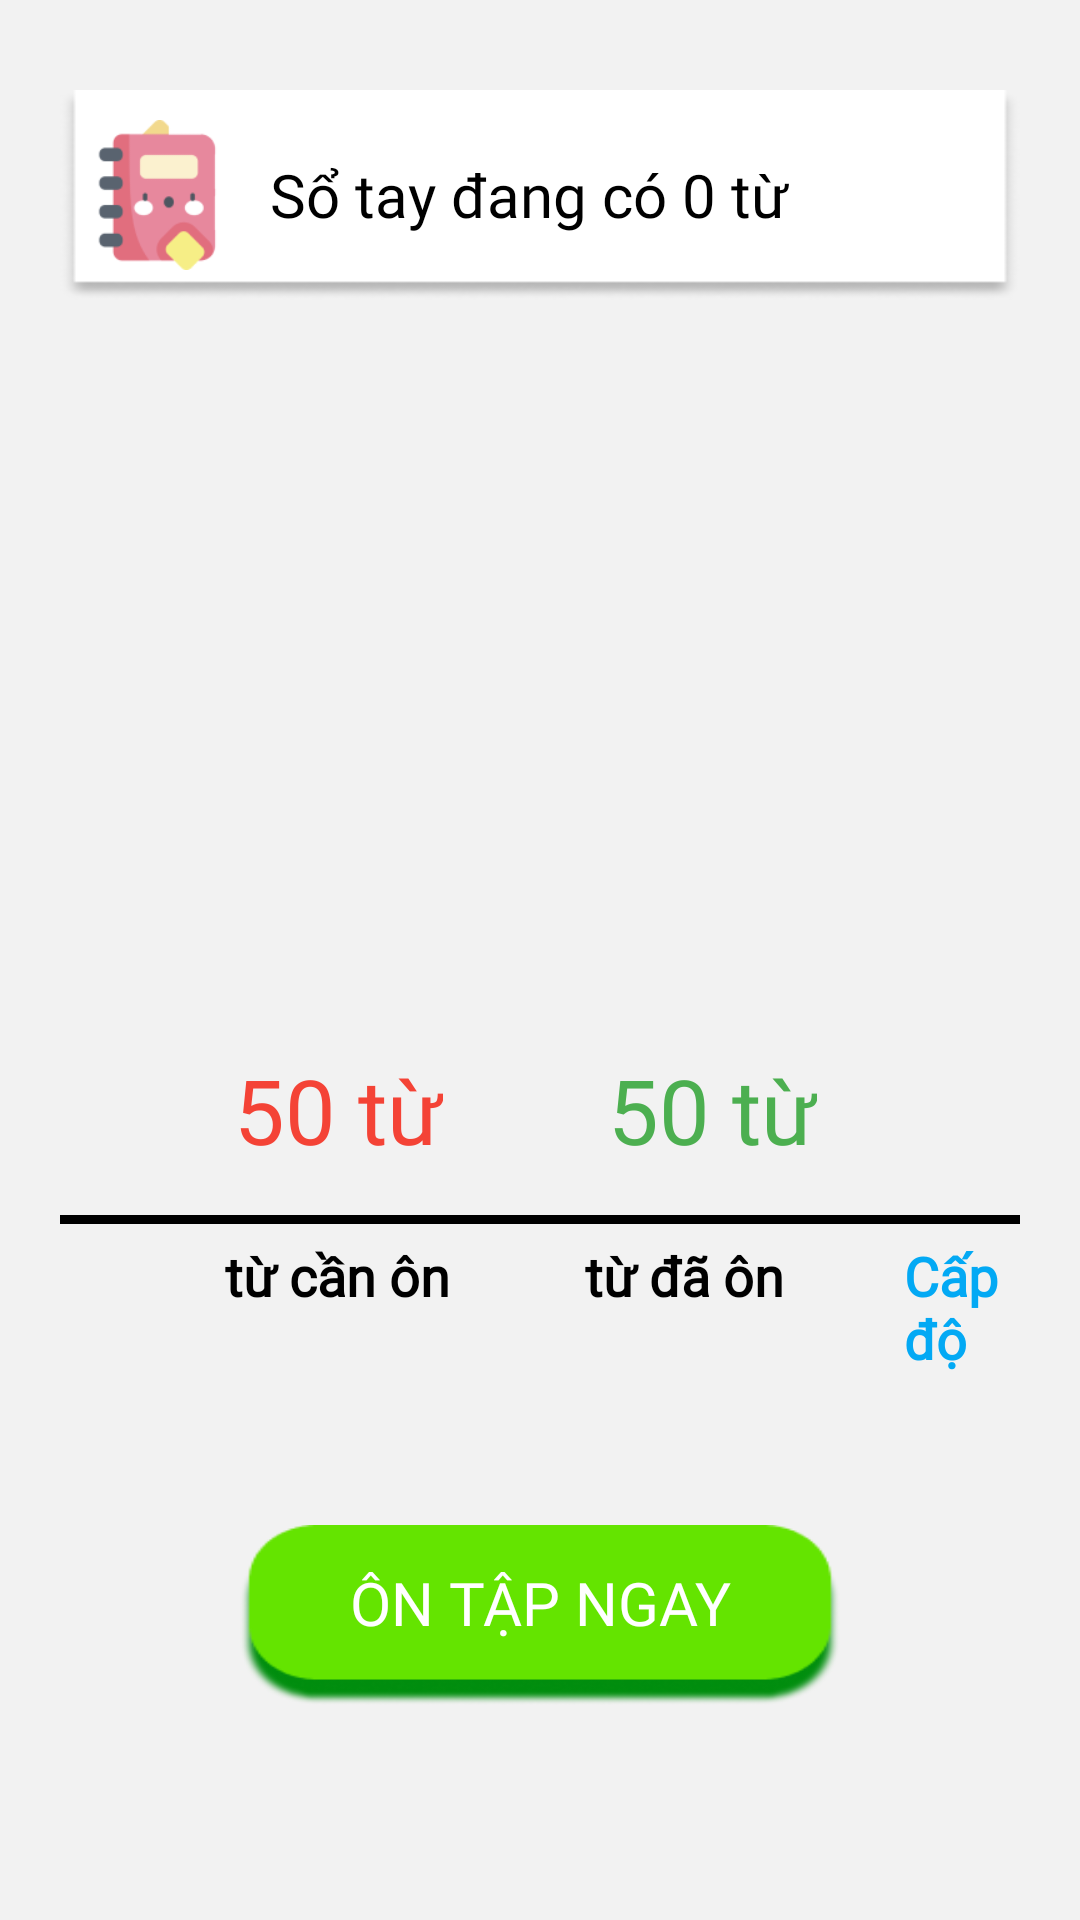

Point at icon controls on the screen. Image size 1080*1920, points as [x,y].
notebook: [157,195]
